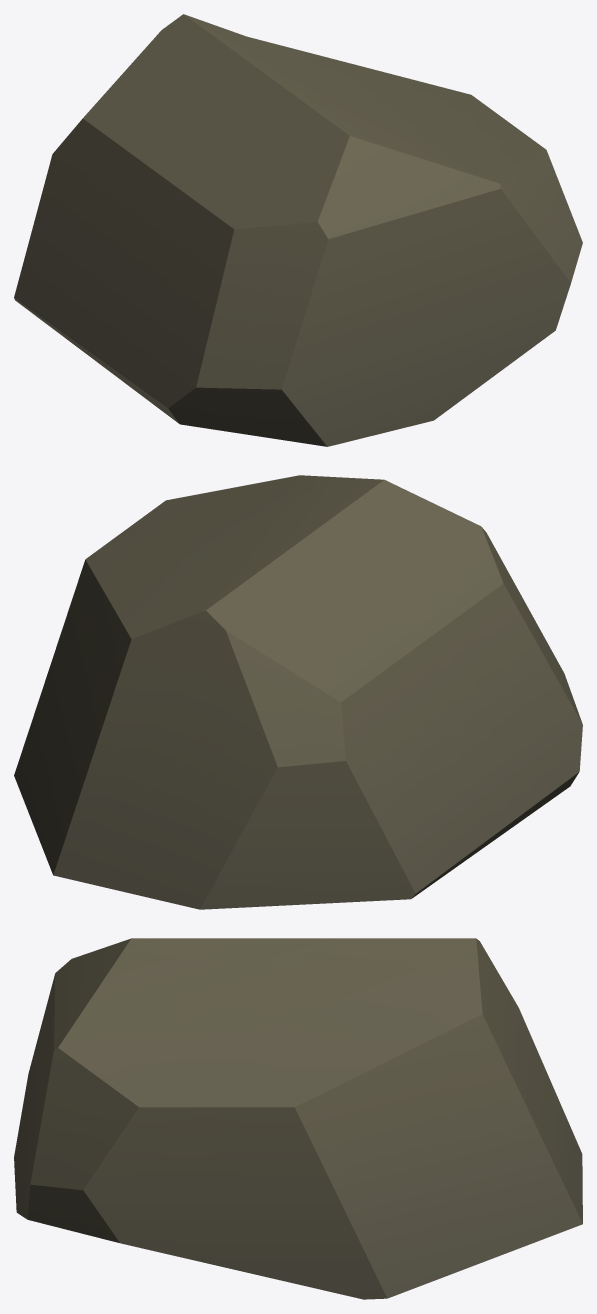
File: RockLow.fbx
The picture shows the model from 3 angles, top to bottom: view 1: azimuth 30°, elevation 25°; view 2: azimuth 150°, elevation 25°; view 3: azimuth 270°, elevation 25°; orthographic projection. The views are drawn at different scales.
Parts seen in each view (by area): view 1: RockLow; view 2: RockLow; view 3: RockLow.
Boxes of the visible parts, x1=… form: RockLow: x1=14, y1=14, x2=582, y2=446; RockLow: x1=14, y1=475, x2=582, y2=909; RockLow: x1=14, y1=938, x2=582, y2=1299.
Size of the model in its own units: 52.22 by 30.95 by 61.42.
